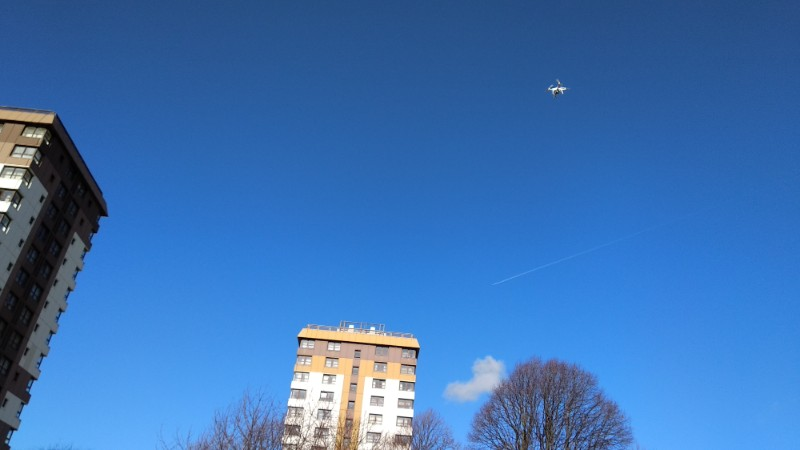drone: (545, 78, 569, 99)
